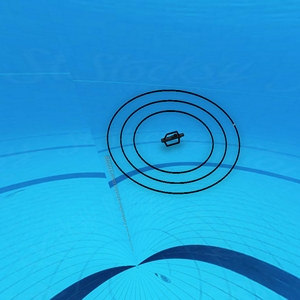circle: (103, 85, 245, 197)
submarine: (161, 133, 188, 148)
